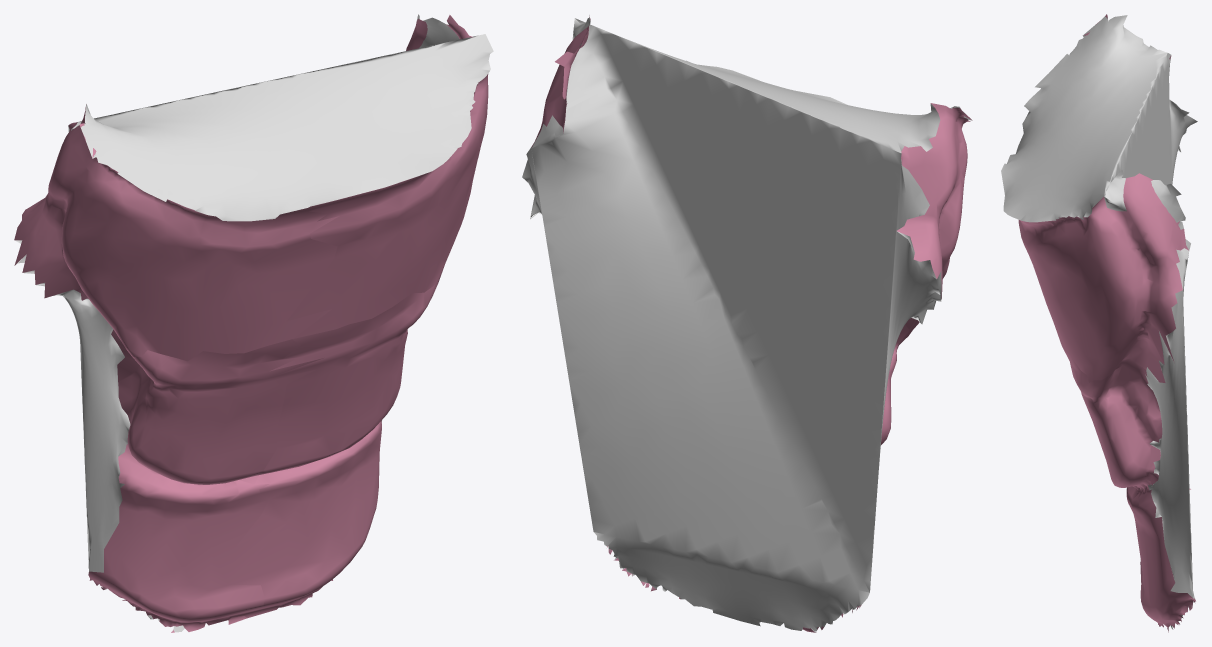
File: Hi3D_Segmented Pastel Female Android 3D Model Asset_part49_20261014_192059.glb
The picture shows the model from 3 angles, left to right: view 1: azimuth 30°, elevation 25°; view 2: azimuth 150°, elevation 25°; view 3: azimuth 270°, elevation 25°; orthographic projection. The views are drawn at different scales.
Parts seen in each view (by area): view 1: Hi3D_Segmented Pastel Female Android 3D Model Asset_part49_2; view 2: Hi3D_Segmented Pastel Female Android 3D Model Asset_part49_2; view 3: Hi3D_Segmented Pastel Female Android 3D Model Asset_part49_2.
Boxes of the visible parts, <box> form: Hi3D_Segmented Pastel Female Android 3D Model Asset_part49_2: <box>14,14,493,632</box>; Hi3D_Segmented Pastel Female Android 3D Model Asset_part49_2: <box>522,15,972,632</box>; Hi3D_Segmented Pastel Female Android 3D Model Asset_part49_2: <box>1001,14,1197,632</box>.
Bounding box in the file's own units: 0.0322 × 0.0401 × 0.0139.
